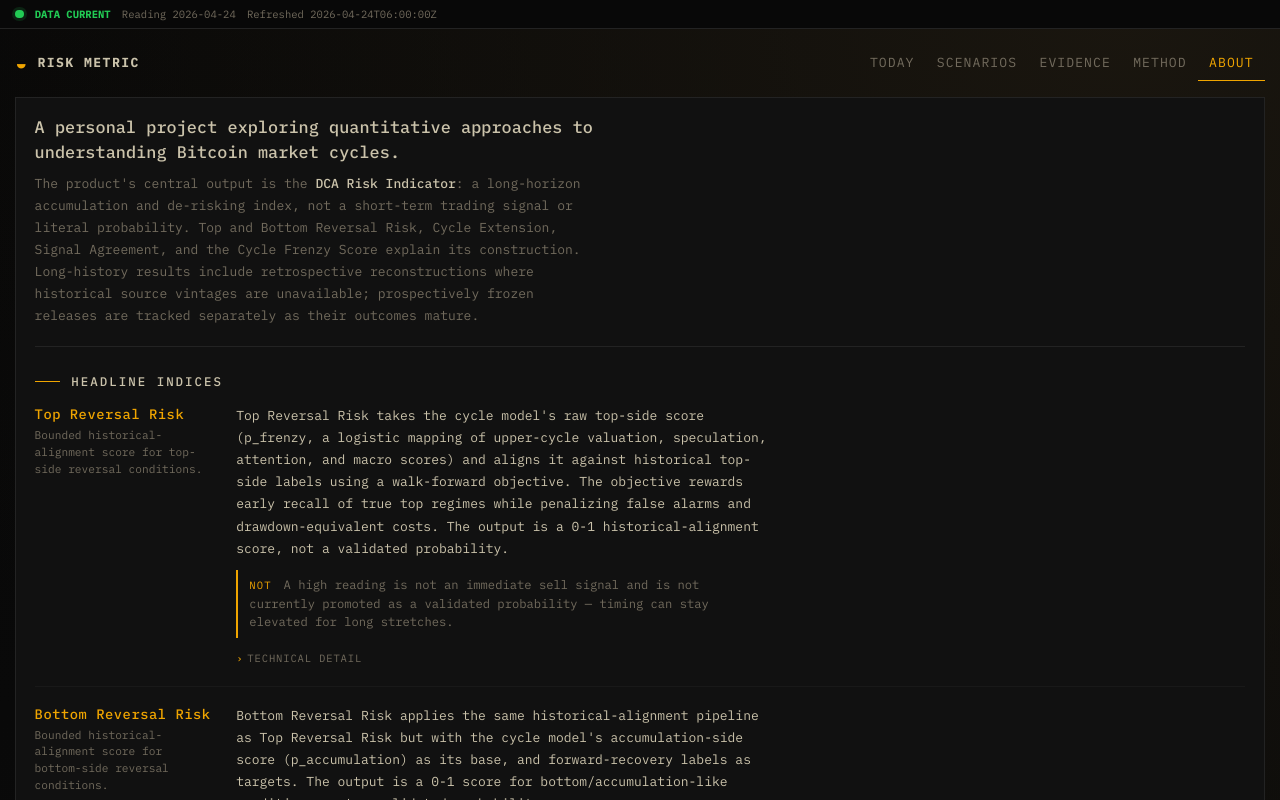
it: App › renders the scenario planner with configurable strategy controls
Step 1. Click the tab "Scenarios" → {"x": 977, "y": 63}, box [926,45,1028,81]
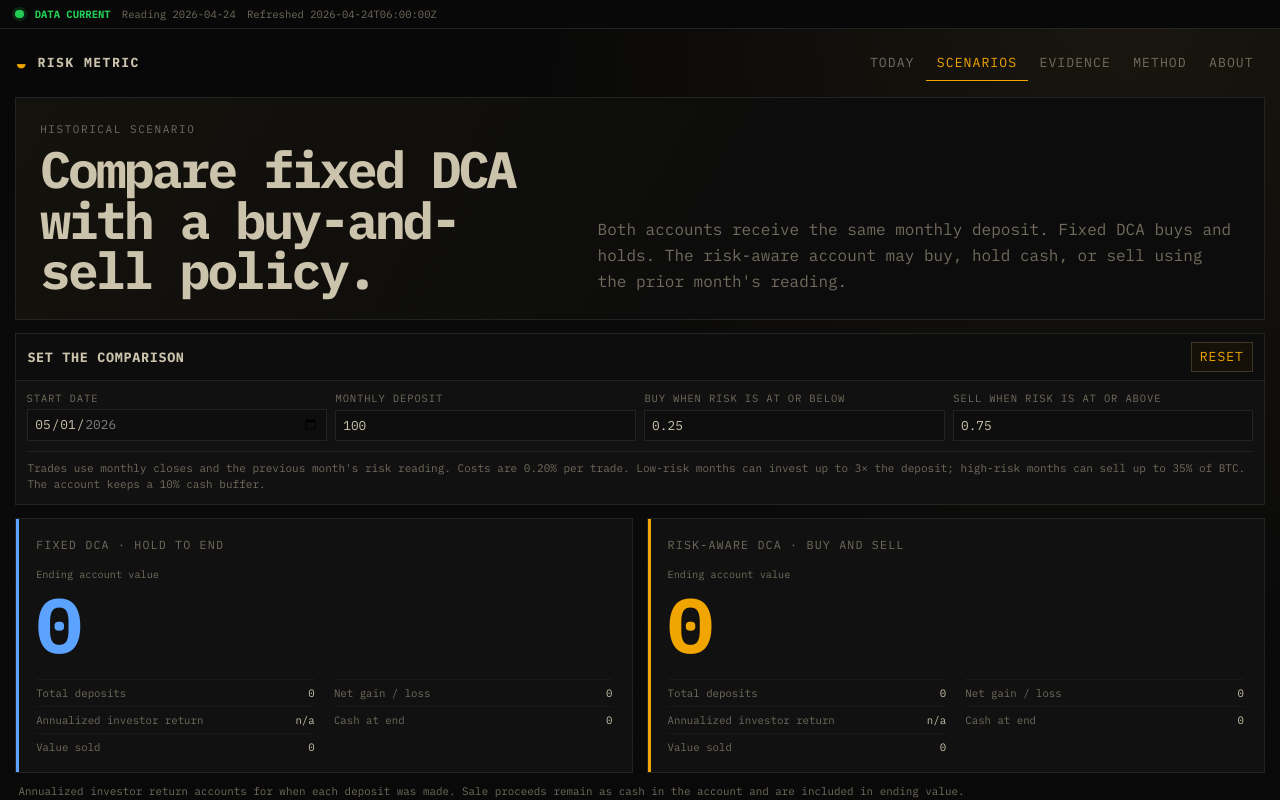
Expected: the heading "Compare fixed DCA with a buy-and-sell policy." is shown, [40,144,566,295]
Expected: the heading "Set the comparison" is shown, [27,348,185,366]
Expected: the text "Fixed DCA · hold to end" is shown, [36,537,224,552]
